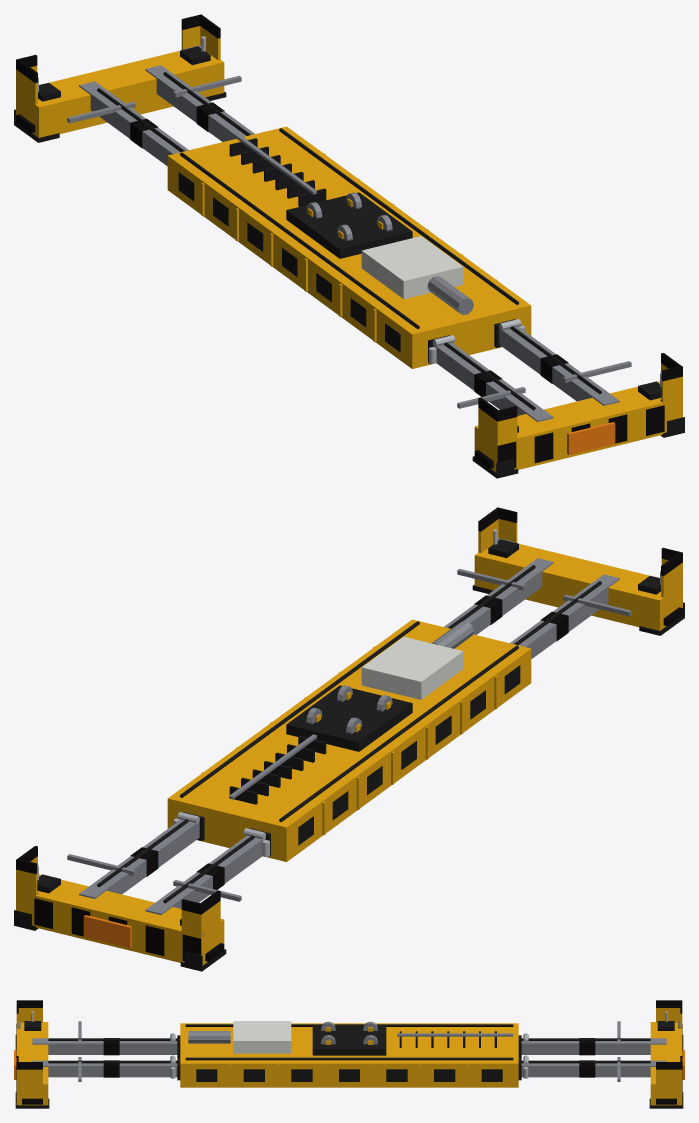
The model's file is hero-spreader-asc.glb.
The picture shows the model from 3 angles, top to bottom: view 1: azimuth 30°, elevation 25°; view 2: azimuth 150°, elevation 25°; view 3: azimuth 270°, elevation 25°; orthographic projection. The views are drawn at different scales.
Parts seen in each view (by area): view 1: spreader_geo; view 2: spreader_geo; view 3: spreader_geo.
Boxes of the visible parts, x1,y1,x2,y2 form: spreader_geo: (14, 14, 684, 478); spreader_geo: (14, 507, 684, 971); spreader_geo: (14, 1000, 684, 1108).
Bounding box in the file's own units: 2.92 × 1.08 × 12.7.
1 material, 1 textured.
